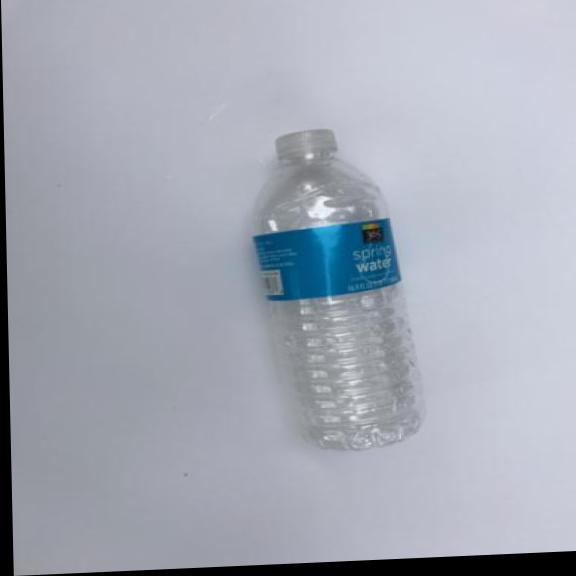Plastik: (255, 123, 430, 458)
